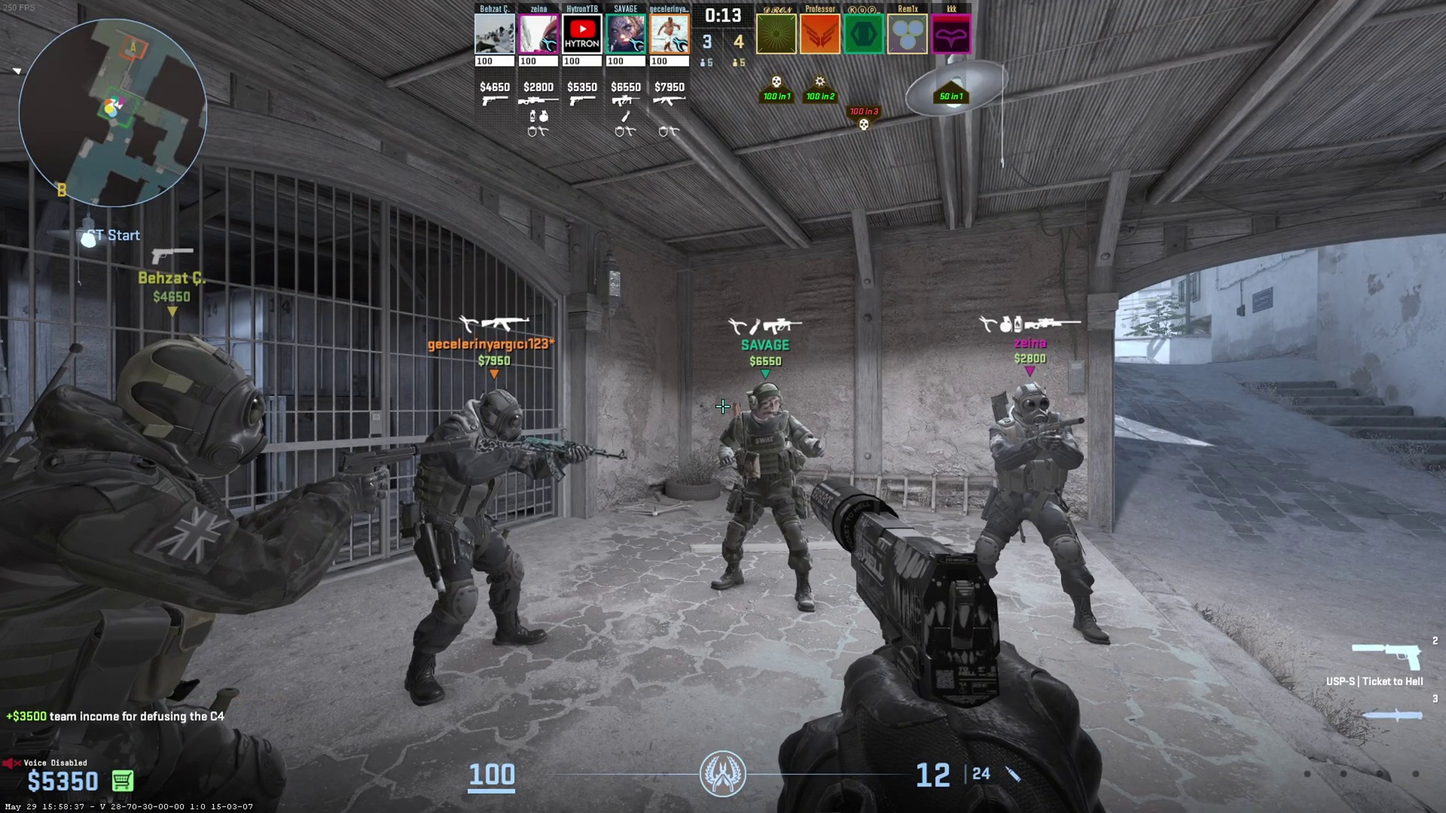CT: (6, 338, 316, 808), (404, 388, 543, 705), (977, 382, 1110, 646), (719, 383, 815, 612)
